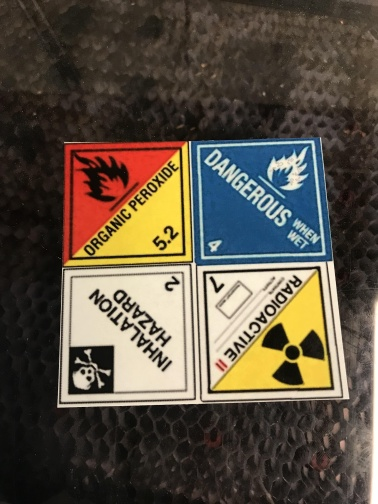DangerousWhenWet: (191, 137, 334, 264)
InhalationHazard: (56, 268, 199, 403)
OrganicPeroxide: (60, 141, 194, 267)
Radioactive: (196, 259, 342, 404)
